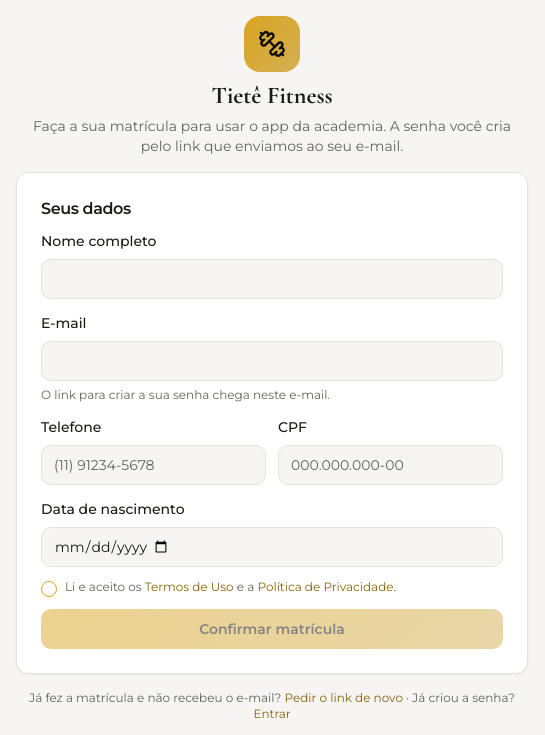
Scenario: PublicMatricula sem senha › o e-mail que não saiu aponta o primeiro acesso, sem dizer que foi enviado
Expected: the text "Seus dados" is shown, left=41, top=199, right=131, bottom=218
Type "Ana Souza" into the field labelled "Nome completo".
click(272, 279); type("Ana Souza")  # box left=41, top=259, right=503, bottom=299
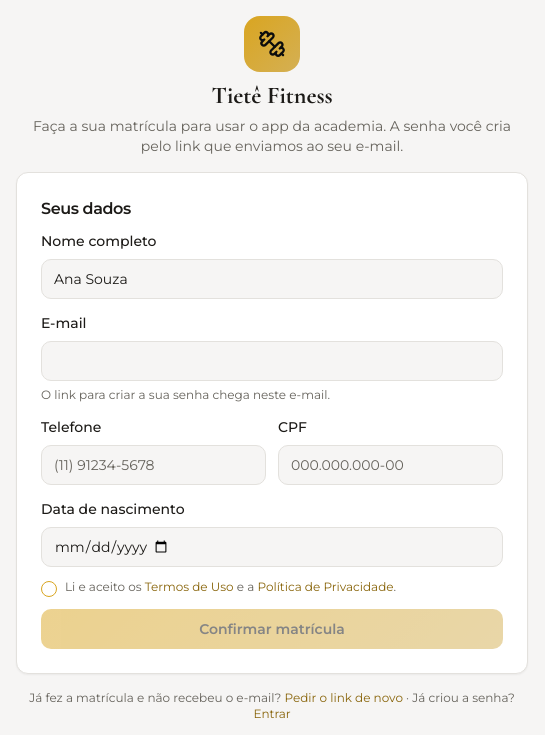
Type "ana@exemplo.com" into the field labelled "E-mail".
click(272, 361); type("ana@exemplo.com")  # box left=41, top=341, right=503, bottom=381
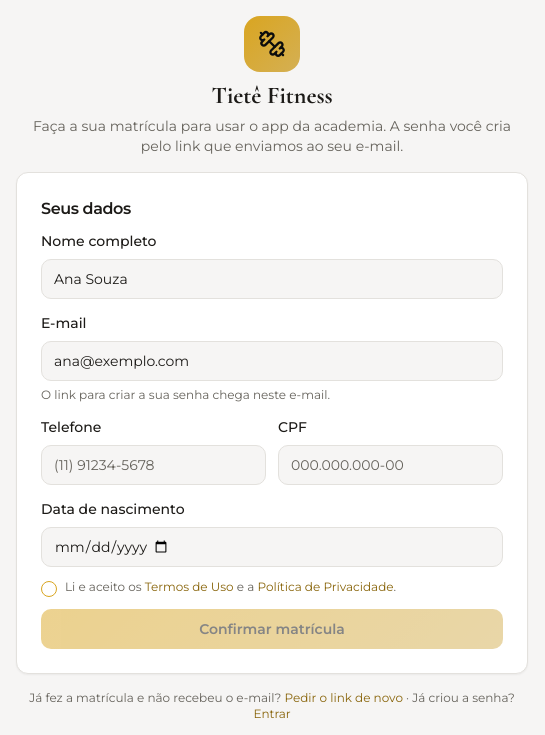
Type "529.982.247-25" into the field labelled "CPF".
click(390, 465); type("529.982.247-25")  # box left=278, top=445, right=503, bottom=485
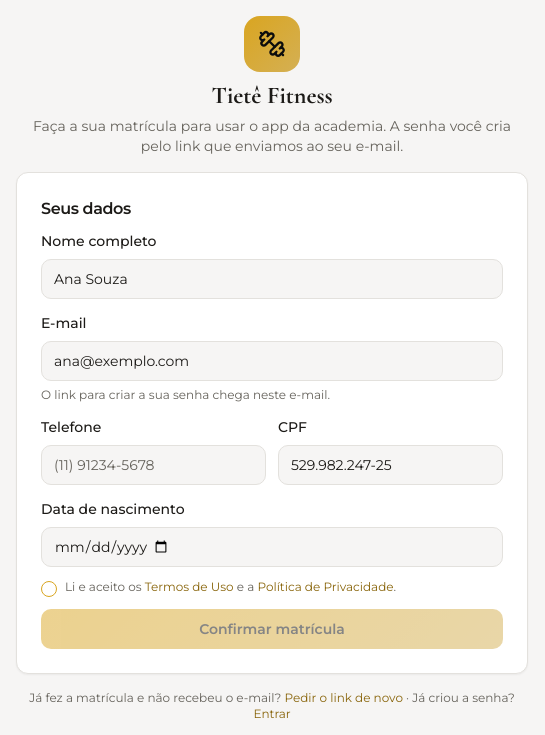
Type "1990-05-10" into the date field labelled "Data de nascimento".
click(272, 547); type("1990-05-10")  # box left=41, top=527, right=503, bottom=567
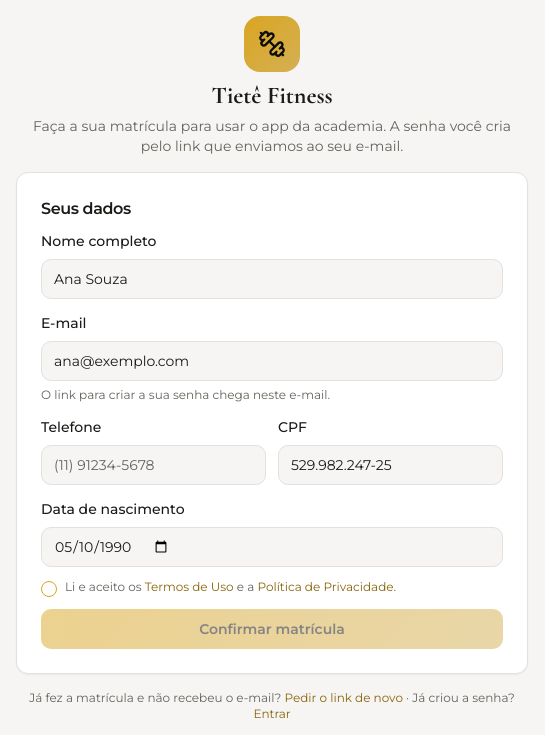
Click the checkbox.
click(49, 589)  # box left=41, top=581, right=57, bottom=597
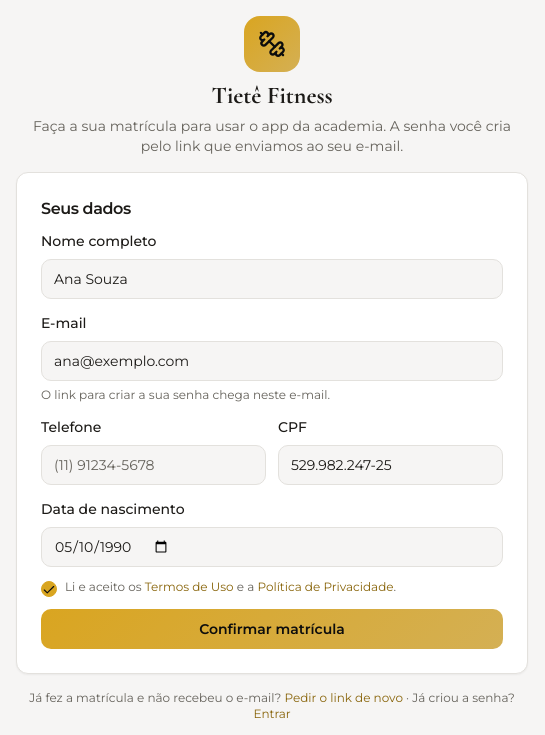
Click the button "Confirmar matrícula".
click(272, 629)  # box left=41, top=609, right=503, bottom=649
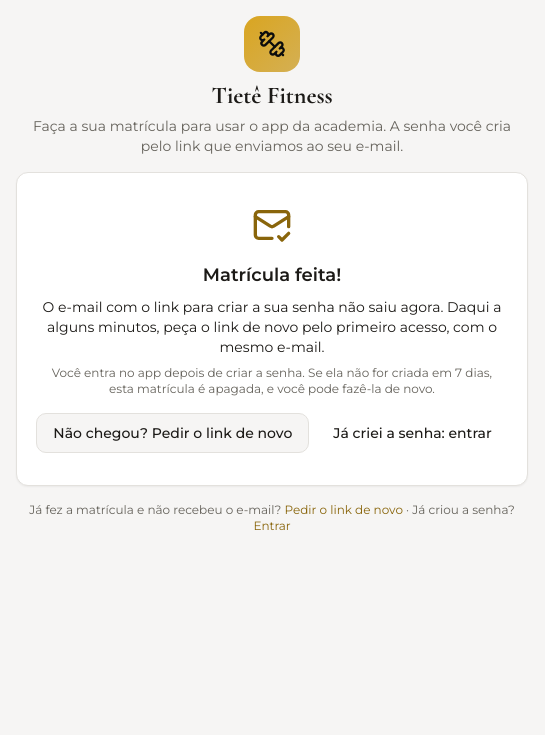
Result: the text "Matrícula feita!" is shown at left=203, top=264, right=341, bottom=286
Result: the text "não saiu agora" is shown at left=42, top=298, right=501, bottom=356
